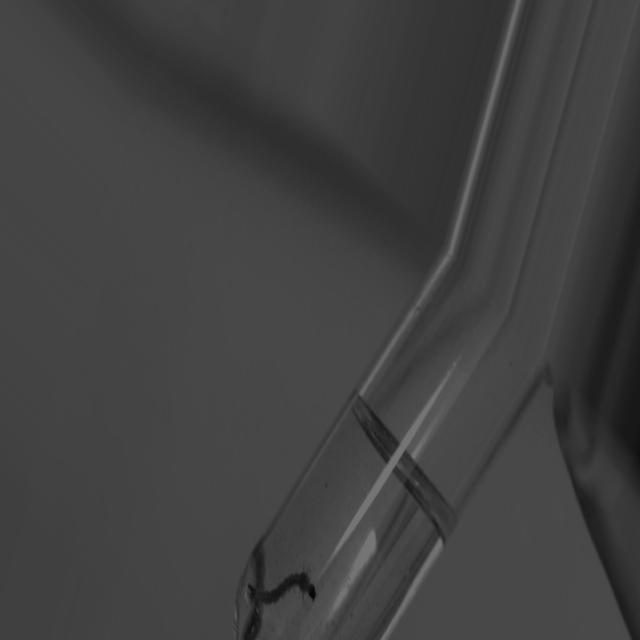larvas: (240, 549, 269, 640), (249, 574, 316, 598)
